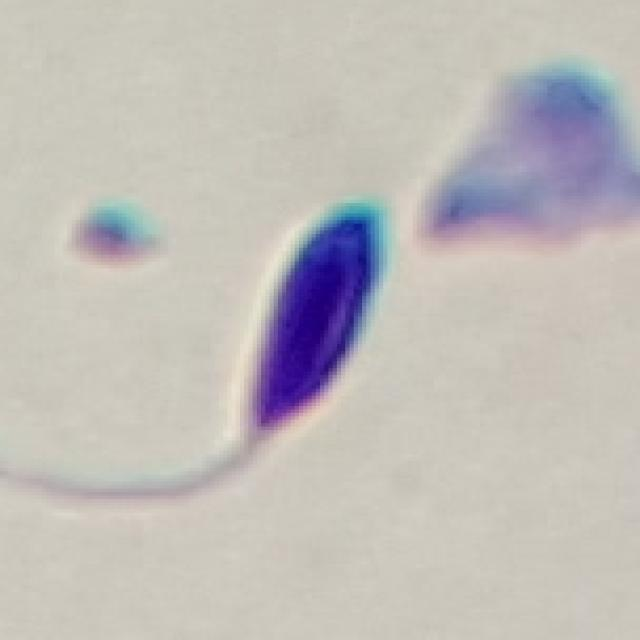abnormal sperm: (124, 193, 456, 490)
